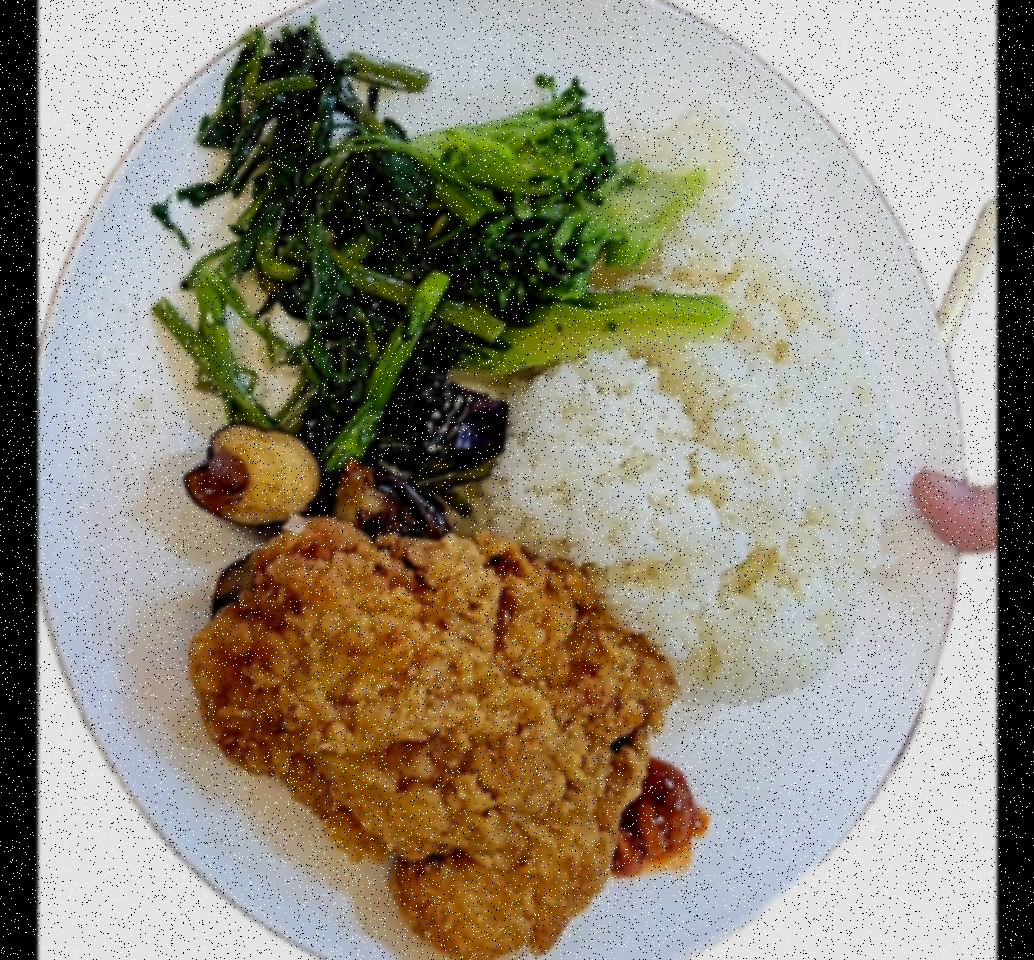big fried chicken leg: (37, 0, 975, 960)
big herbal chicken leg: (464, 107, 908, 708)
braised fish fillet: (146, 14, 462, 458), (410, 86, 730, 369), (183, 373, 516, 538)
braised pork: (188, 519, 680, 960)
